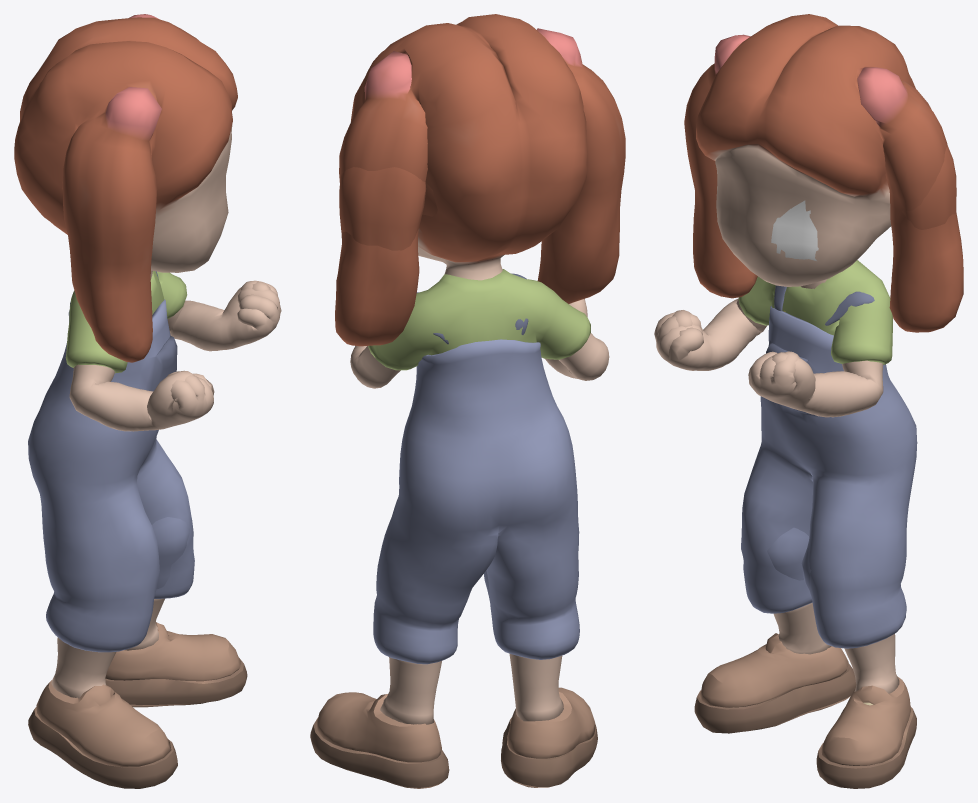
The picture shows the model from 3 angles, left to right: view 1: azimuth 30°, elevation 25°; view 2: azimuth 150°, elevation 25°; view 3: azimuth 270°, elevation 25°; orthographic projection. The views are drawn at different scales.
Visible parts, largest first — view 1: Arms.107; view 2: Arms.107; view 3: Arms.107.
Part boxes in pixels (x1,y1,x2,y2): Arms.107: [14, 14, 281, 788]; Arms.107: [310, 14, 625, 788]; Arms.107: [654, 14, 963, 788].
Bounding box in the file's own units: 57.55 × 163 × 64.69.
